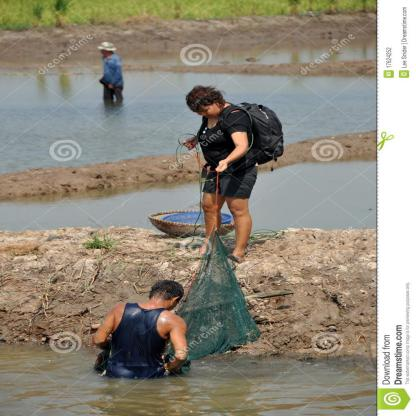face: (195, 104, 220, 120), (102, 49, 109, 55)
